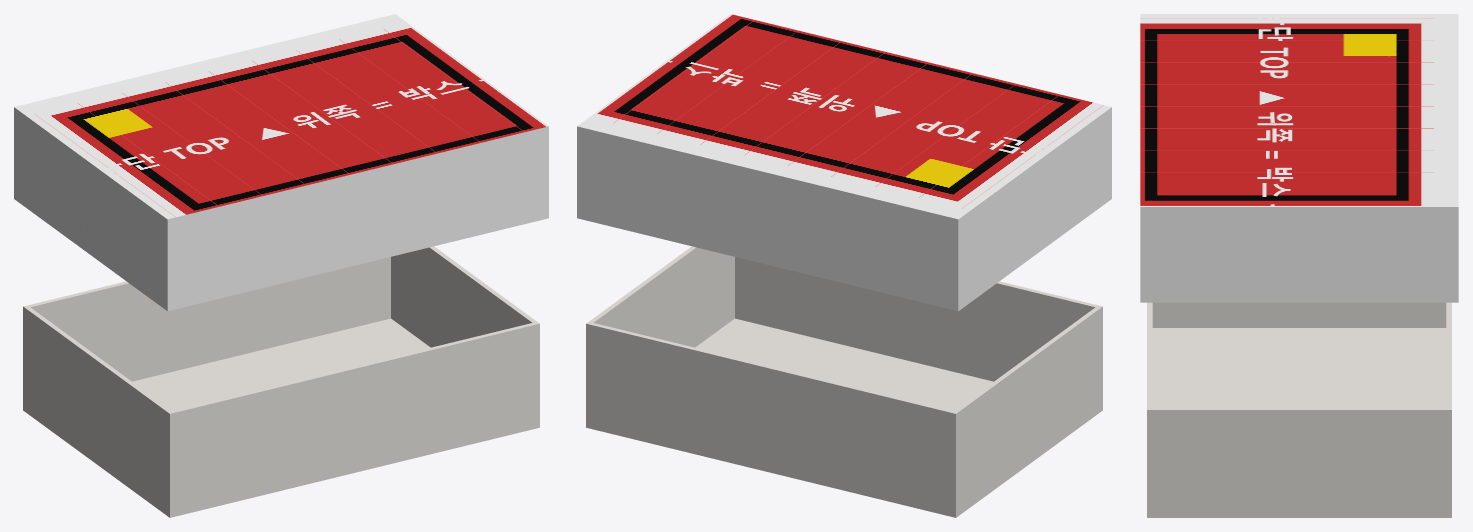
File: stage23-1.glb
3 renders of one model, left to right at view 1: azimuth 30°, elevation 25°; view 2: azimuth 150°, elevation 25°; view 3: azimuth 270°, elevation 25°, orthographic. The views are drawn at different scales.
Visible parts, largest first — view 1: lid_top, base_inner, base_front, lid_front, base_left, lid_left, base_rim; view 2: lid_top, base_inner, base_back, lid_back, base_left, lid_left, base_rim; view 3: lid_top, base_right, base_inner, lid_right, base_rim.
Boxes of the visible parts, <box> form: lid_top: <box>14,14,548,219</box>; base_inner: <box>31,247,531,410</box>; base_front: <box>170,323,539,517</box>; lid_front: <box>167,126,548,310</box>; base_left: <box>23,306,169,517</box>; lid_left: <box>14,107,167,310</box>; base_rim: <box>23,246,539,413</box>; lid_top: <box>577,14,1111,219</box>; base_inner: <box>594,247,1094,410</box>; base_back: <box>586,323,955,517</box>; lid_back: <box>577,126,958,310</box>; base_left: <box>956,306,1102,517</box>; lid_left: <box>958,107,1111,310</box>; base_rim: <box>586,246,1102,413</box>; lid_top: <box>1140,14,1458,206</box>; base_right: <box>1147,410,1451,517</box>; base_inner: <box>1152,302,1446,407</box>; lid_right: <box>1140,207,1458,302</box>; base_rim: <box>1147,302,1451,409</box>.
Size of the model in its own units: 0.165 by 0.125 by 0.115.
14 materials, 1 textured.
